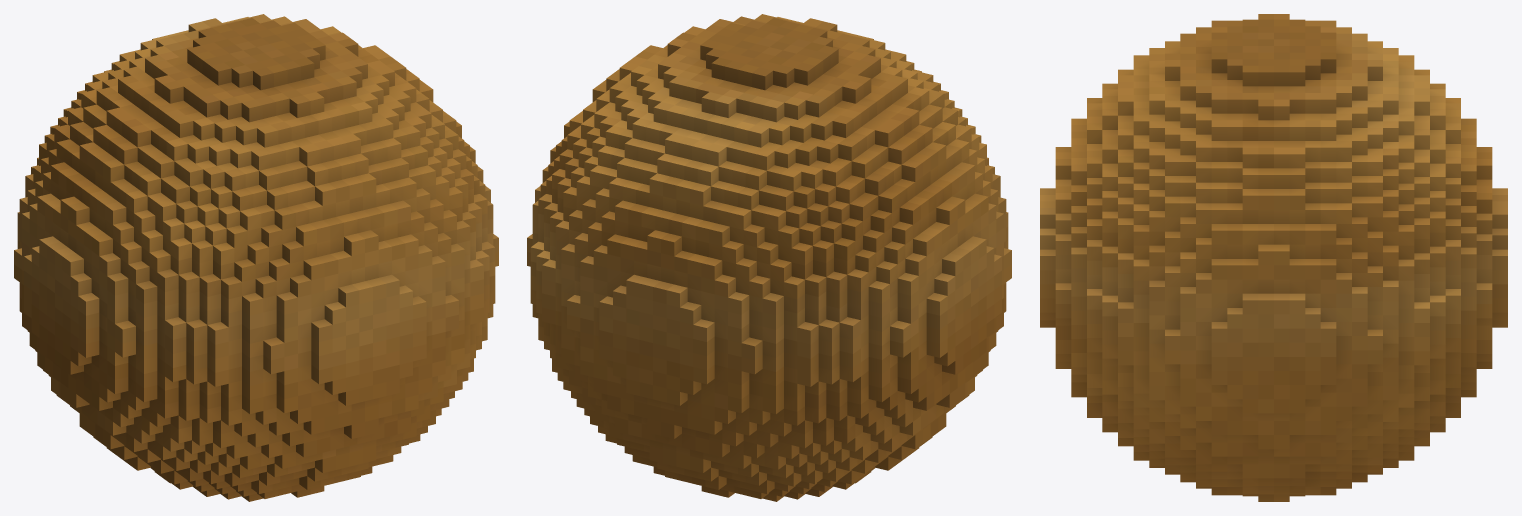
Rendered from titan_lod1.glb.
3 renders of one model, left to right at view 1: azimuth 30°, elevation 25°; view 2: azimuth 150°, elevation 25°; view 3: azimuth 270°, elevation 25°, orthographic.
Visible parts, largest first — view 1: titan_lod1; view 2: titan_lod1; view 3: titan_lod1.
Boxes of the visible parts, x1=… form: titan_lod1: x1=14, y1=14, x2=498, y2=501; titan_lod1: x1=527, y1=14, x2=1011, y2=501; titan_lod1: x1=1040, y1=14, x2=1507, y2=501.
Bounding box in the file's own units: 2 × 2 × 2.
